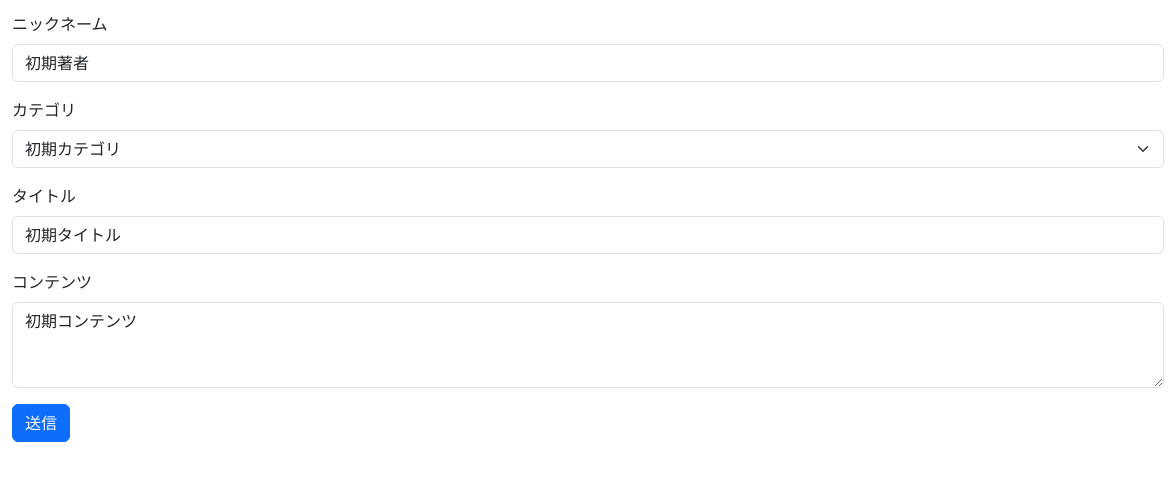
Test: PostForm › サブミット時にエラーが発生した場合、エラーメッセージを表示すること
The width and height of the screenshot is (1176, 499).
Click the button "送信" at (41, 423), box [12,404,70,442]
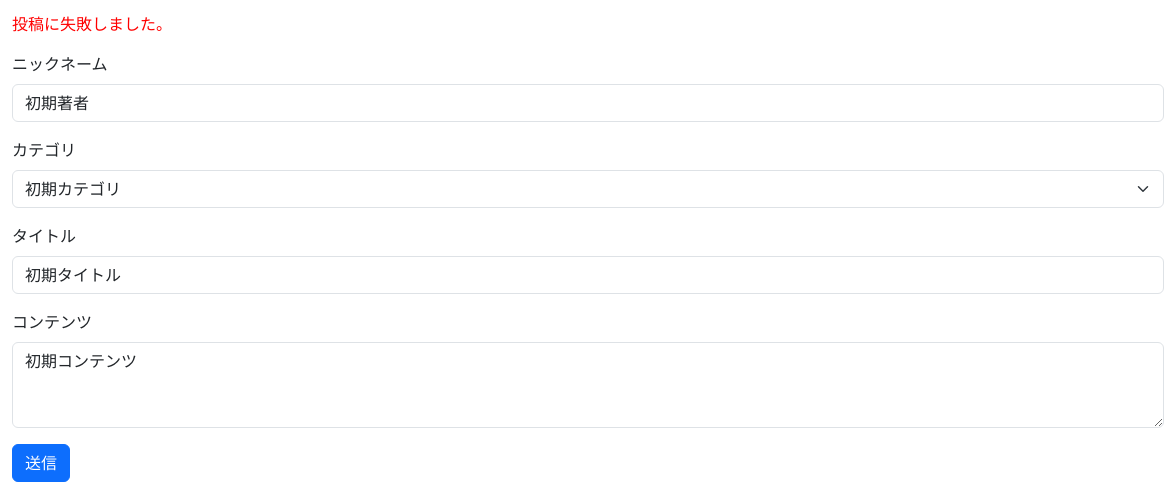
Expected: the text "投稿に失敗しました。" is shown, [12,13,172,35]
